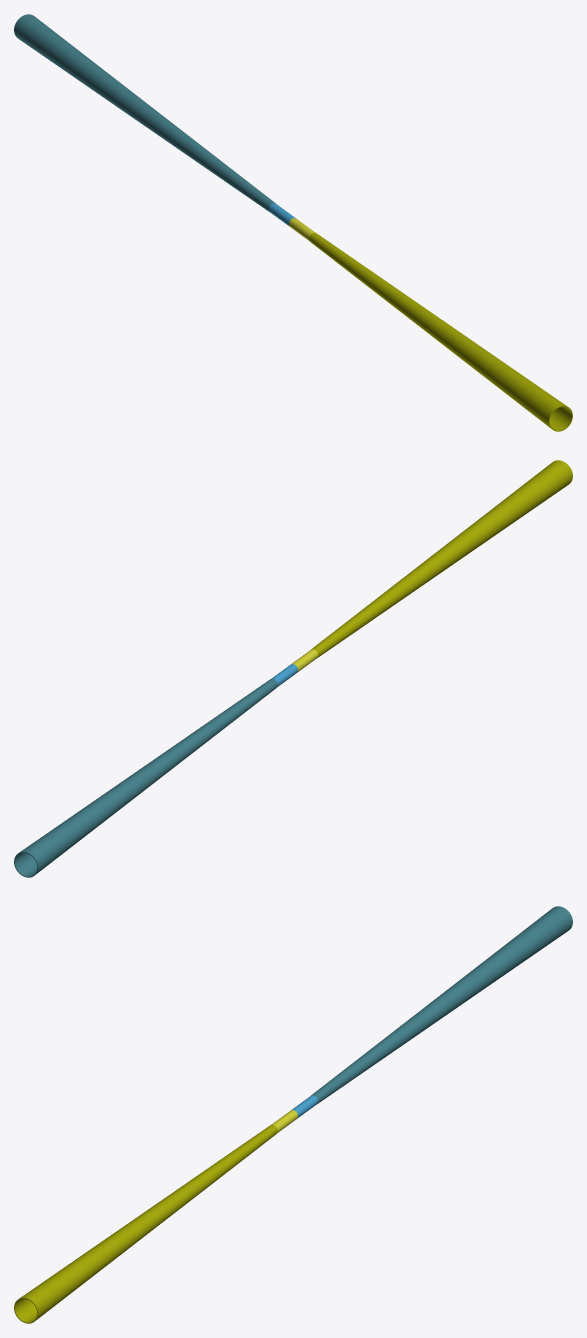
Rendered from IDEA_o1_v03.gltf.
The picture shows the model from 3 angles, top to bottom: view 1: azimuth 30°, elevation 25°; view 2: azimuth 150°, elevation 25°; view 3: azimuth 330°, elevation 25°; orthographic projection.
Parts seen in each view (by area): view 1: tube_AlBeMet162_wall_6, tube_AlBeMet162_wall2_7; view 2: tube_AlBeMet162_wall2_7, tube_AlBeMet162_wall_6; view 3: tube_AlBeMet162_wall_6, tube_AlBeMet162_wall2_7.
Part boxes in pixels (x1,y1,x2,y2): tube_AlBeMet162_wall_6: (309,232,572,431); tube_AlBeMet162_wall2_7: (14,14,275,211); tube_AlBeMet162_wall2_7: (14,678,277,877); tube_AlBeMet162_wall_6: (311,460,572,657); tube_AlBeMet162_wall_6: (14,1124,277,1323); tube_AlBeMet162_wall2_7: (311,906,572,1103).
Bounding box in the file's own units: 6.18 × 6.15 × 238.
